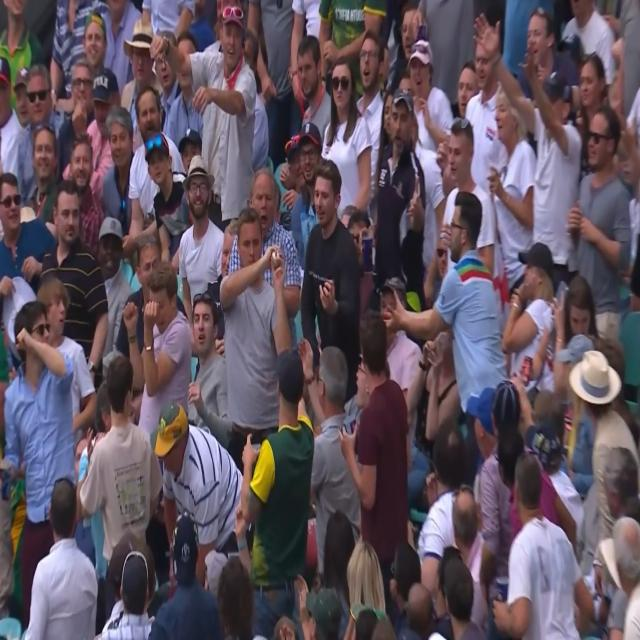ball: (269, 247, 281, 270)
